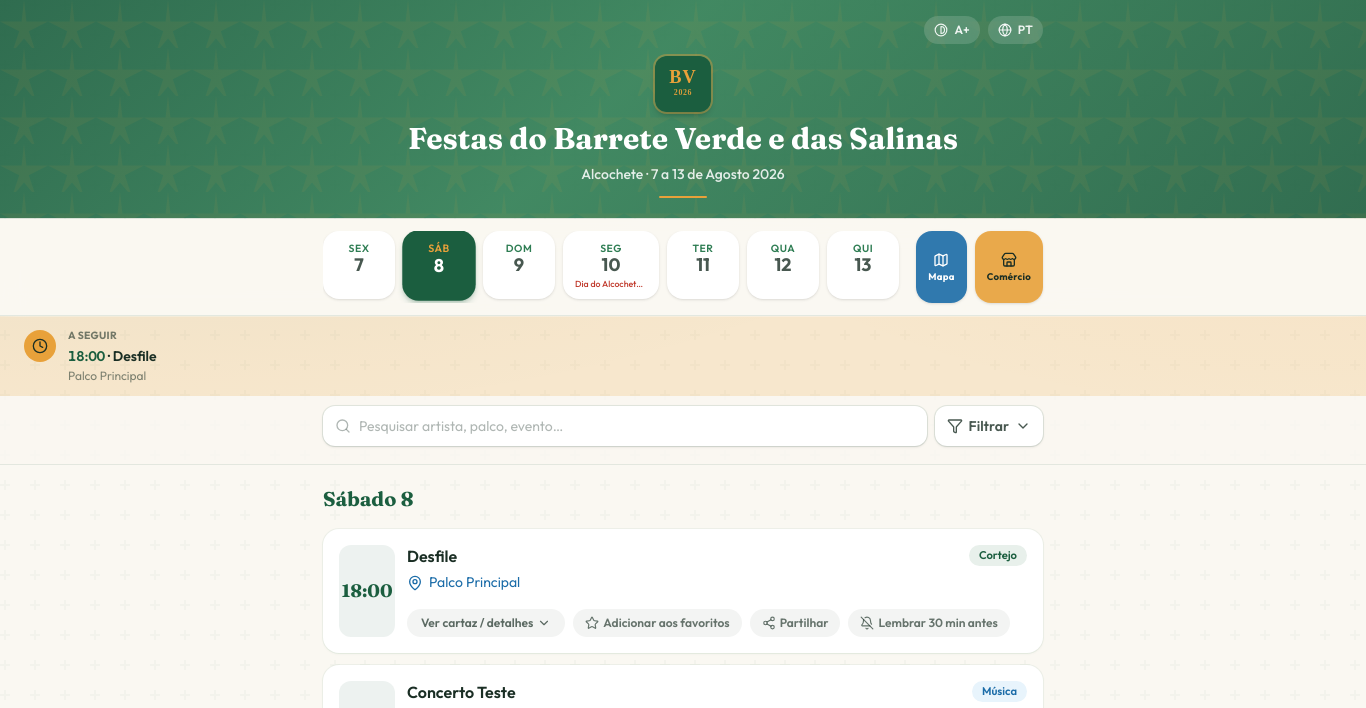
Test: PublicProgram › filters by search query
Check: the heading "Concerto Teste" is shown, box [407,682,516,702]
Step 1. Type "desfile" into the search field → (625, 426), box [323,406,927,446]
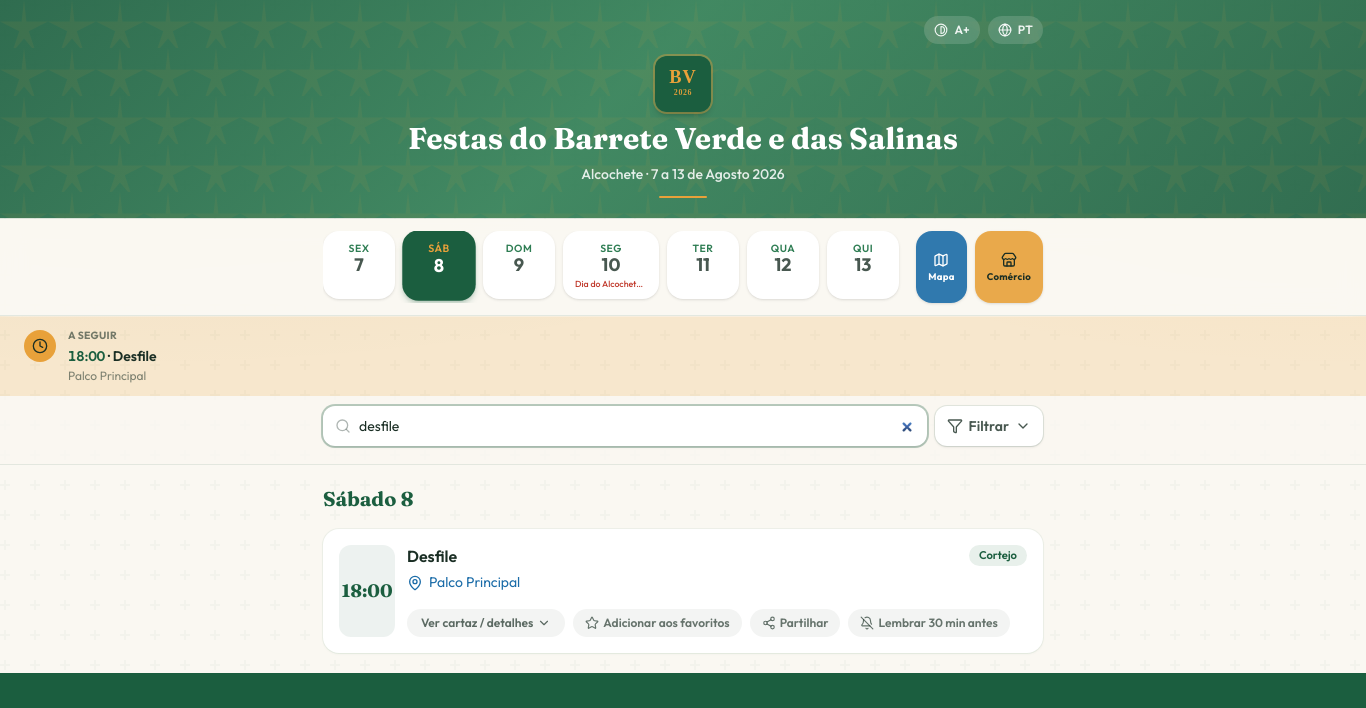
Check: the heading "Desfile" is shown, box [407,546,457,566]
Check: the heading "Concerto Teste" is gone
